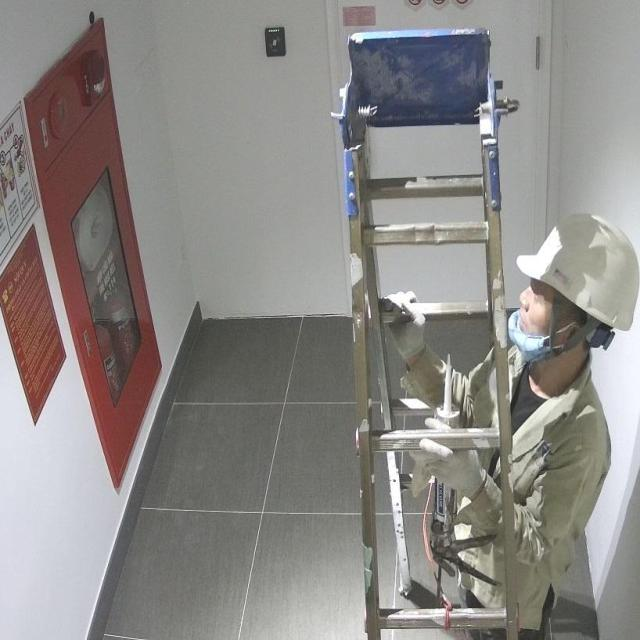hairnet: (511, 293, 567, 366)
